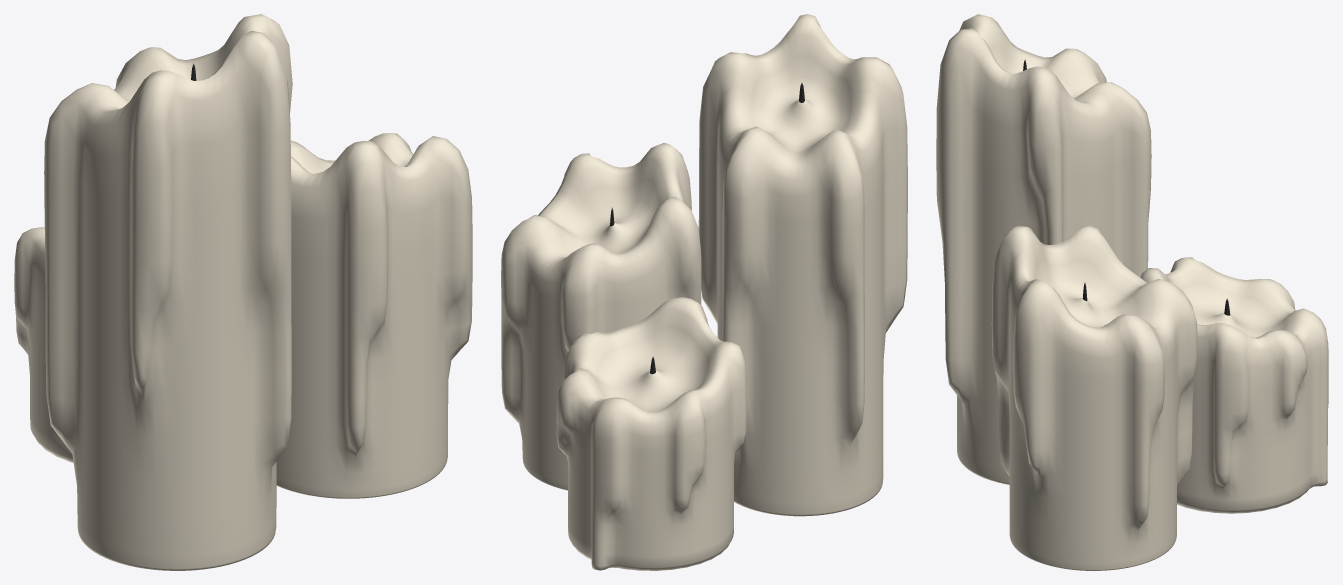
Rendered from Candles.fbx.
The picture shows the model from 3 angles, left to right: view 1: azimuth 30°, elevation 25°; view 2: azimuth 150°, elevation 25°; view 3: azimuth 270°, elevation 25°; orthographic projection. The views are drawn at different scales.
Visible parts, largest first — view 1: Candle3, Candle2, Candle1; view 2: Candle3, Candle1, Candle2; view 3: Candle2, Candle3, Candle1.
Boxes of the visible parts, x1,y1,x2,y2 form: Candle3: [44, 14, 292, 570]; Candle2: [276, 133, 472, 498]; Candle1: [14, 227, 73, 462]; Candle3: [698, 14, 907, 516]; Candle1: [556, 297, 746, 570]; Candle2: [501, 143, 701, 490]; Candle2: [991, 225, 1197, 570]; Candle3: [936, 14, 1151, 484]; Candle1: [1140, 257, 1328, 513].
Bounding box in the file's own units: 94.2 × 95.23 × 117.
